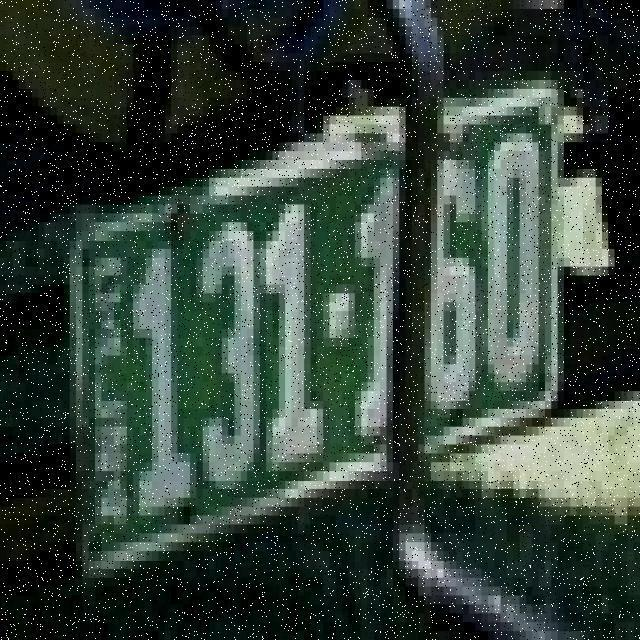LicensePlate: (59, 49, 603, 598)
